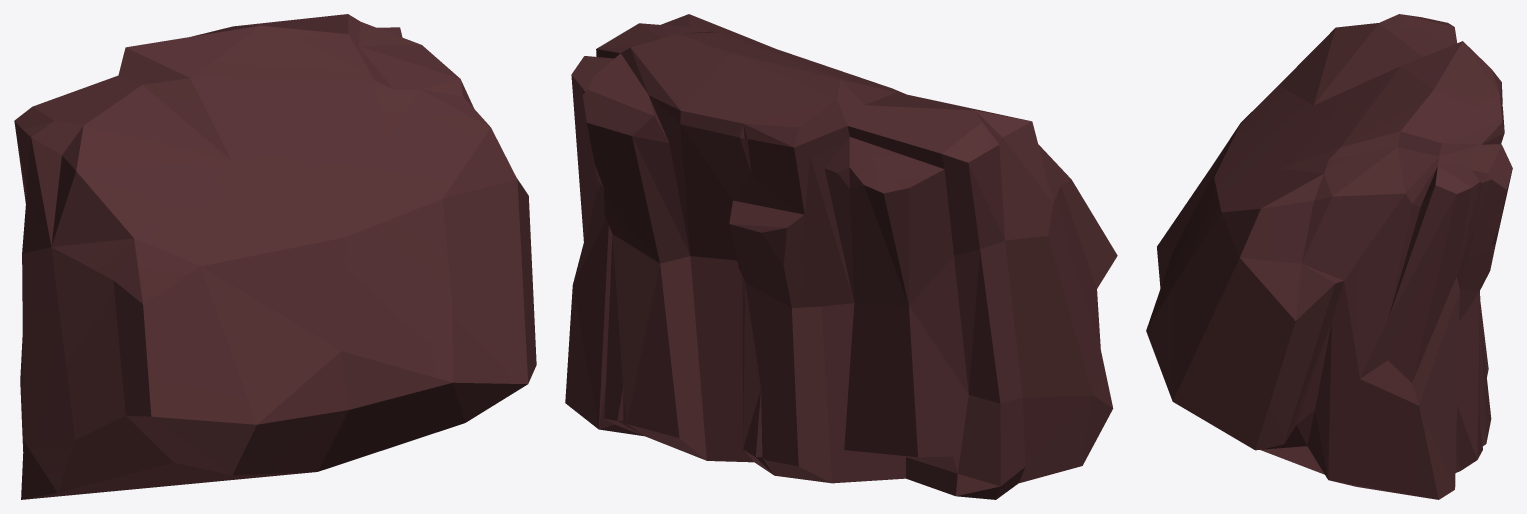
The model's file is entity79004.glb.
3 renders of one model, left to right at view 1: azimuth 30°, elevation 25°; view 2: azimuth 150°, elevation 25°; view 3: azimuth 270°, elevation 25°, orthographic. The views are drawn at different scales.
Parts seen in each view (by area): view 1: node_SM_Env_Cliff_Curved_02 (4); view 2: node_SM_Env_Cliff_Curved_02 (4); view 3: node_SM_Env_Cliff_Curved_02 (4).
Boxes of the visible parts, bbox=[...] form: node_SM_Env_Cliff_Curved_02 (4): bbox=[14, 14, 536, 499]; node_SM_Env_Cliff_Curved_02 (4): bbox=[565, 14, 1117, 499]; node_SM_Env_Cliff_Curved_02 (4): bbox=[1146, 14, 1512, 499].
Bounding box in the file's own units: 22.24 × 17.32 × 16.01.
1 material, 1 textured.
